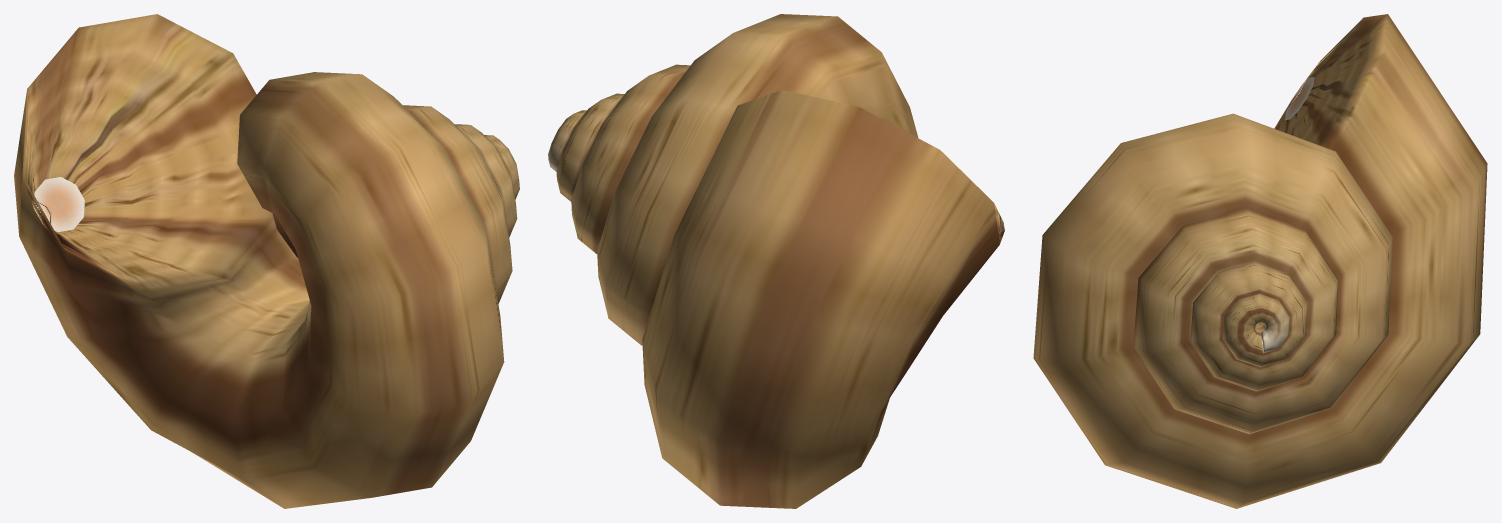
The model's file is shell-whelk.glb.
The picture shows the model from 3 angles, left to right: view 1: azimuth 30°, elevation 25°; view 2: azimuth 150°, elevation 25°; view 3: azimuth 270°, elevation 25°; orthographic projection. The views are drawn at different scales.
Parts seen in each view (by area): view 1: shell-whelk; view 2: shell-whelk; view 3: shell-whelk.
Part boxes in pixels (left/top/right/bottom): shell-whelk: left=14, top=14, right=519, bottom=508; shell-whelk: left=548, top=14, right=1004, bottom=508; shell-whelk: left=1033, top=14, right=1487, bottom=508.
Size of the model in its own units: 0.36 by 0.3382 by 0.3354.
1 material, 1 textured.
